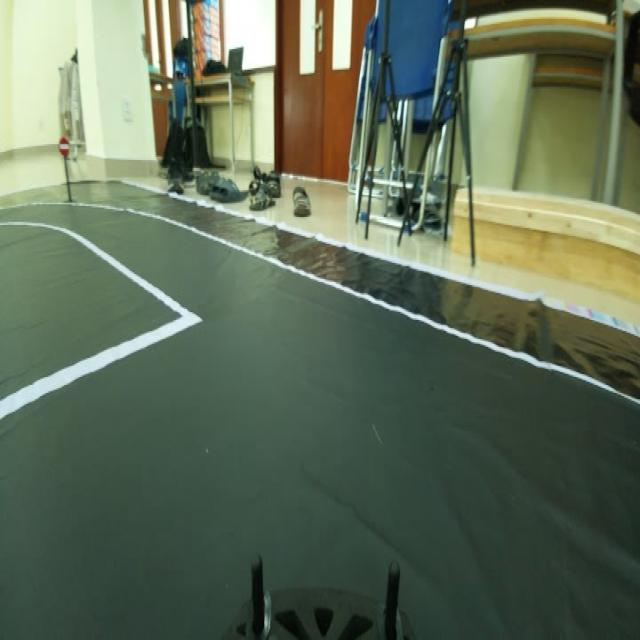no_entry: (54, 134, 74, 158)
